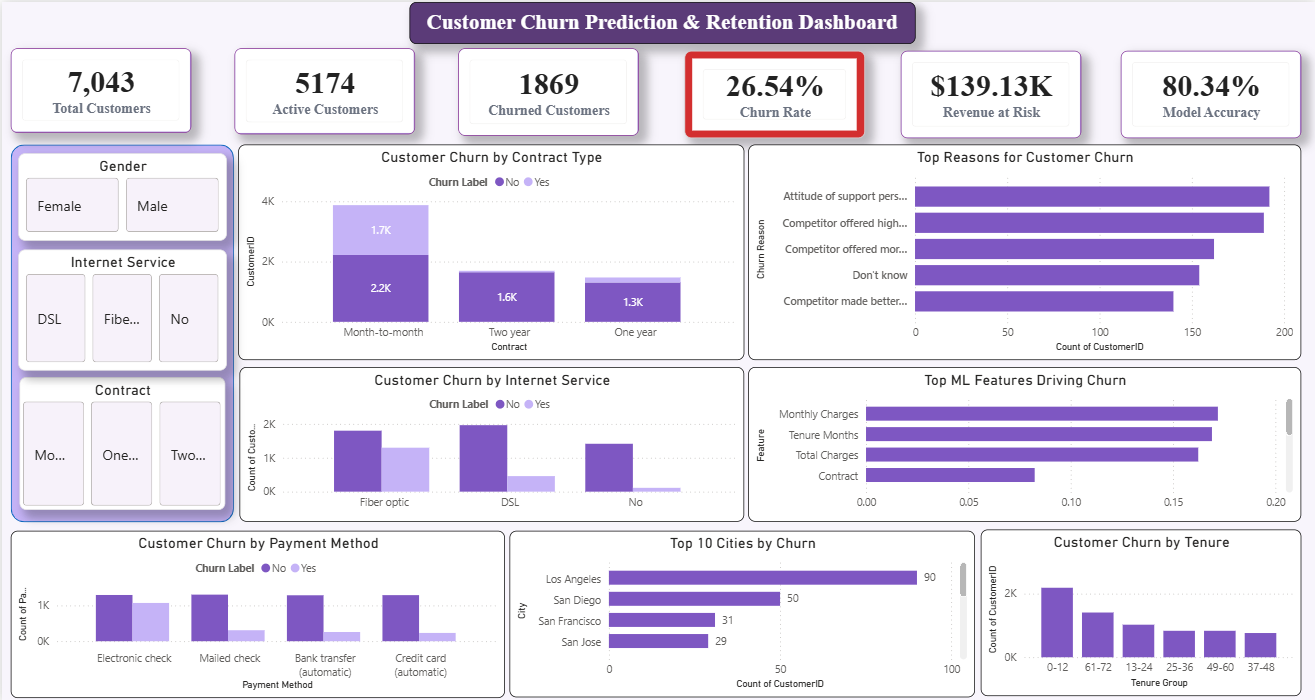

The page's visual inventory and layout, read from the dashboard file:
{"tool":"powerbi","page":{"name":"Page 1","canvas":[1500,800],"ordinal":0},"visuals":[{"type":"shape","box":[10,163.3,255,431.7],"z":0},{"type":"cardVisual","fields":{"Data":["Telco_customer_churn_clean.Total Customers"]},"box":[10,53.3,206.7,96.7],"z":1000},{"type":"textbox","box":[466,0,578,48],"z":2000},{"type":"cardVisual","fields":{"Data":["Telco_customer_churn_clean.Churned Customers"]},"box":[521.7,53.3,206.7,100],"z":3000},{"type":"cardVisual","fields":{"Data":["Telco_customer_churn_clean.Churn Rate"]},"box":[780,55,206.7,100],"z":4000},{"type":"cardVisual","fields":{"Data":["Telco_customer_churn_clean.Revenue at Risk"]},"box":[1026.7,55,206.7,100],"z":5000},{"type":"cardVisual","fields":{"Data":["Telco_customer_churn_clean.Active Customers"]},"box":[265,53.3,206.7,98.3],"z":6000},{"type":"cardVisual","fields":{"Data":["Telco_customer_churn_clean.Model Accuracy"]},"box":[1278.3,55,206.7,100],"z":7000},{"type":"columnChart","title":"Customer Churn by Contract Type","fields":{"Category":["Telco_customer_churn_clean.Contract"],"Y":["CountNonNull(Telco_customer_churn_clean.CustomerID)"],"Series":["Telco_customer_churn_clean.Churn Label"]},"box":[270,163.2,578.3,246.7],"z":8000},{"type":"clusteredBarChart","title":"Top Reasons for Customer Churn","fields":{"Category":["Telco_customer_churn_clean.Churn Reason"],"Y":["CountNonNull(Telco_customer_churn_clean.CustomerID)"]},"box":[853.3,163.2,631.7,246.7],"z":9000},{"type":"clusteredColumnChart","title":"Customer Churn by Internet Service","fields":{"Category":["Telco_customer_churn_clean.Internet Service"],"Y":["CountNonNull(Telco_customer_churn_clean.CustomerID)"],"Series":["Telco_customer_churn_clean.Churn Label"]},"box":[271.7,417.6,576.7,176.7],"z":10000},{"type":"clusteredBarChart","title":"Top ML Features Driving Churn","fields":{"Category":["Feature_Importance.Feature"],"Y":["Sum(Feature_Importance.Importance)"]},"box":[853.3,417.6,631.7,176.7],"z":11000},{"type":"clusteredColumnChart","title":"Customer Churn by Payment Method","fields":{"Category":["Telco_customer_churn_clean.Payment Method"],"Y":["CountNonNull(Telco_customer_churn_clean.Payment Method)"],"Series":["Telco_customer_churn_clean.Churn Label"]},"box":[10,603.8,565,191.2],"z":12000},{"type":"advancedSlicerVisual","fields":{"Values":["Telco_customer_churn_clean.Gender"]},"box":[18,172.3,238.3,100],"z":13000},{"type":"advancedSlicerVisual","fields":{"Values":["Telco_customer_churn_clean.Contract"]},"box":[19.7,428.9,235,151.7],"z":14000},{"type":"advancedSlicerVisual","fields":{"Values":["Telco_customer_churn_clean.Internet Service"]},"box":[18,282.3,238.3,138.3],"z":15000},{"type":"clusteredColumnChart","title":"Customer Churn by Tenure","fields":{"Category":["Telco_customer_churn_clean.Tenure Group"],"Y":["CountNonNull(Telco_customer_churn_clean.CustomerID)"]},"box":[1118.3,603.3,366.7,190],"z":19000},{"type":"barChart","title":"Top 10 Cities by Churn","fields":{"Category":["Telco_customer_churn_clean.City"],"Y":["CountNonNull(Telco_customer_churn_clean.CustomerID)"]},"box":[580,604,532,190],"z":20000}]}

Visuals, with their boxes in screenshot pixels (x1, y1, x2, y2), scaled from the page's 1500x800 canvas onto the 1315x700 screenshot:
shape: l=9, t=143, r=232, b=521
cardVisual - Telco_customer_churn_clean.Total Customers: l=9, t=47, r=190, b=131
textbox: l=409, t=0, r=915, b=42
cardVisual - Telco_customer_churn_clean.Churned Customers: l=457, t=47, r=639, b=134
cardVisual - Telco_customer_churn_clean.Churn Rate: l=684, t=48, r=865, b=136
cardVisual - Telco_customer_churn_clean.Revenue at Risk: l=900, t=48, r=1081, b=136
cardVisual - Telco_customer_churn_clean.Active Customers: l=232, t=47, r=414, b=133
cardVisual - Telco_customer_churn_clean.Model Accuracy: l=1121, t=48, r=1302, b=136
"Customer Churn by Contract Type" columnChart: l=237, t=143, r=744, b=359
"Top Reasons for Customer Churn" clusteredBarChart: l=748, t=143, r=1302, b=359
"Customer Churn by Internet Service" clusteredColumnChart: l=238, t=365, r=744, b=520
"Top ML Features Driving Churn" clusteredBarChart: l=748, t=365, r=1302, b=520
"Customer Churn by Payment Method" clusteredColumnChart: l=9, t=528, r=504, b=696
advancedSlicerVisual - Telco_customer_churn_clean.Gender: l=16, t=151, r=225, b=238
advancedSlicerVisual - Telco_customer_churn_clean.Contract: l=17, t=375, r=223, b=508
advancedSlicerVisual - Telco_customer_churn_clean.Internet Service: l=16, t=247, r=225, b=368
"Customer Churn by Tenure" clusteredColumnChart: l=980, t=528, r=1302, b=694
"Top 10 Cities by Churn" barChart: l=508, t=528, r=975, b=695
